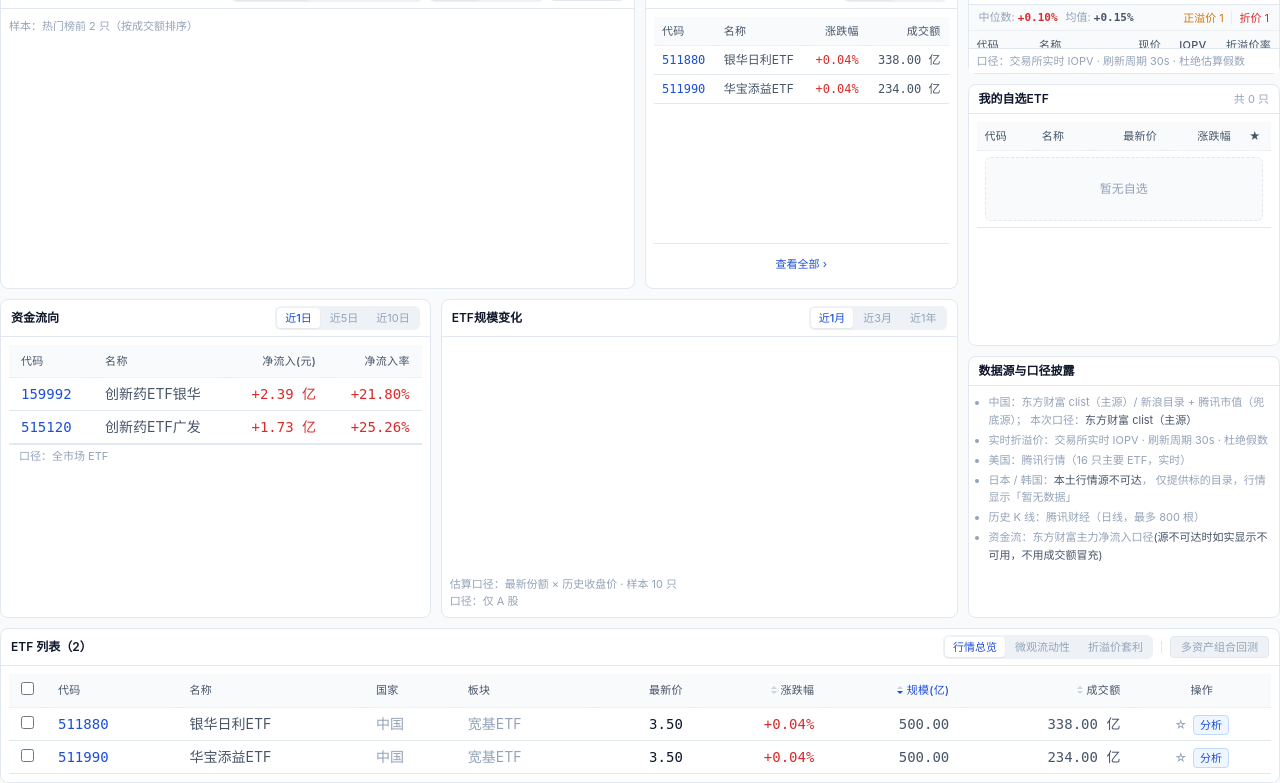
Test case: ETF列表三重视图与多资产勾选 › 勾选标的后支持触发多资产配置回测按钮
(page scrolled)
Expected: the text "创新药ETF银华" is shown, left=93, top=378, right=228, bottom=411
 勾选第一只标的
Click the checkbox named "选择 511880" at {"x": 28, "y": 722}, box left=21, top=716, right=34, bottom=729
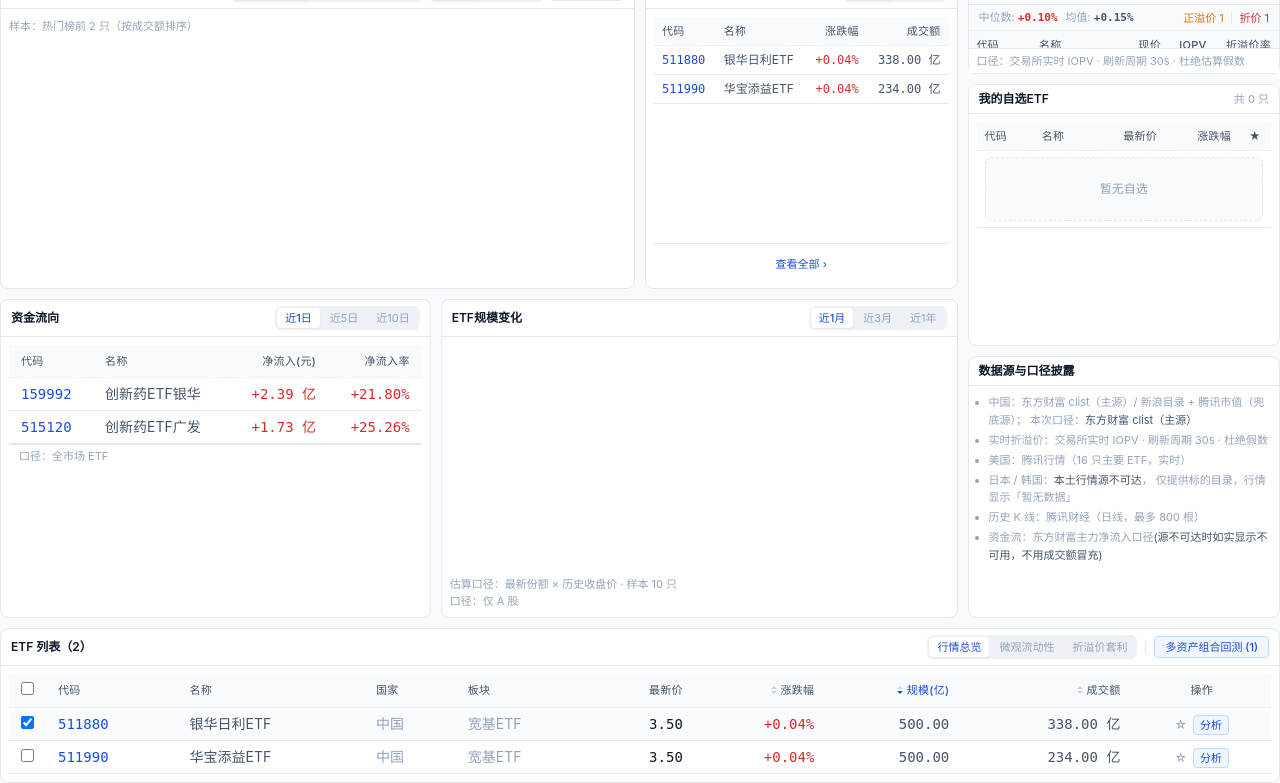
Expected: the button "多资产组合回测 (1)" is shown, left=1154, top=636, right=1269, bottom=658
 勾选第二只标的
Click the checkbox named "选择 511990" at {"x": 28, "y": 755}, box left=21, top=749, right=34, bottom=762
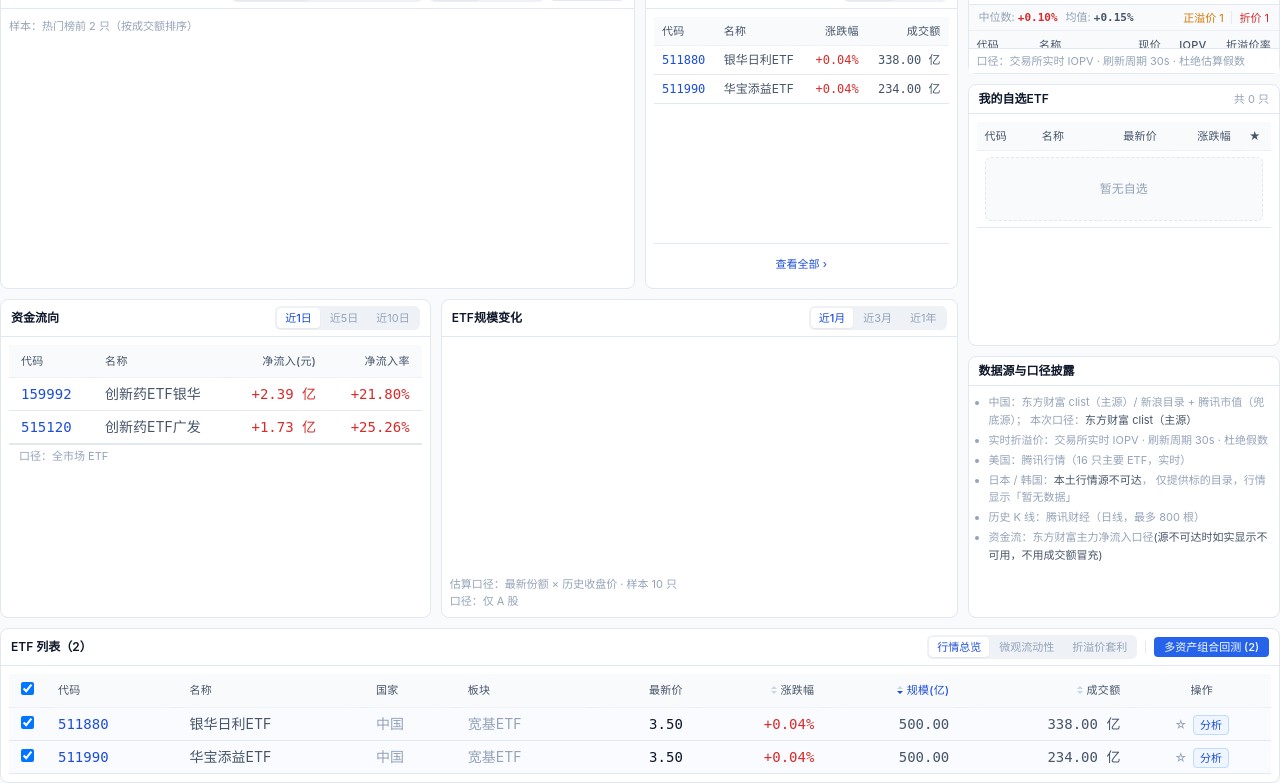
Expected: the button "多资产组合回测 (2)" is shown
点击打开回测弹窗
Click the button "多资产组合回测 (2)" at {"x": 1212, "y": 647}, box left=1154, top=637, right=1269, bottom=657
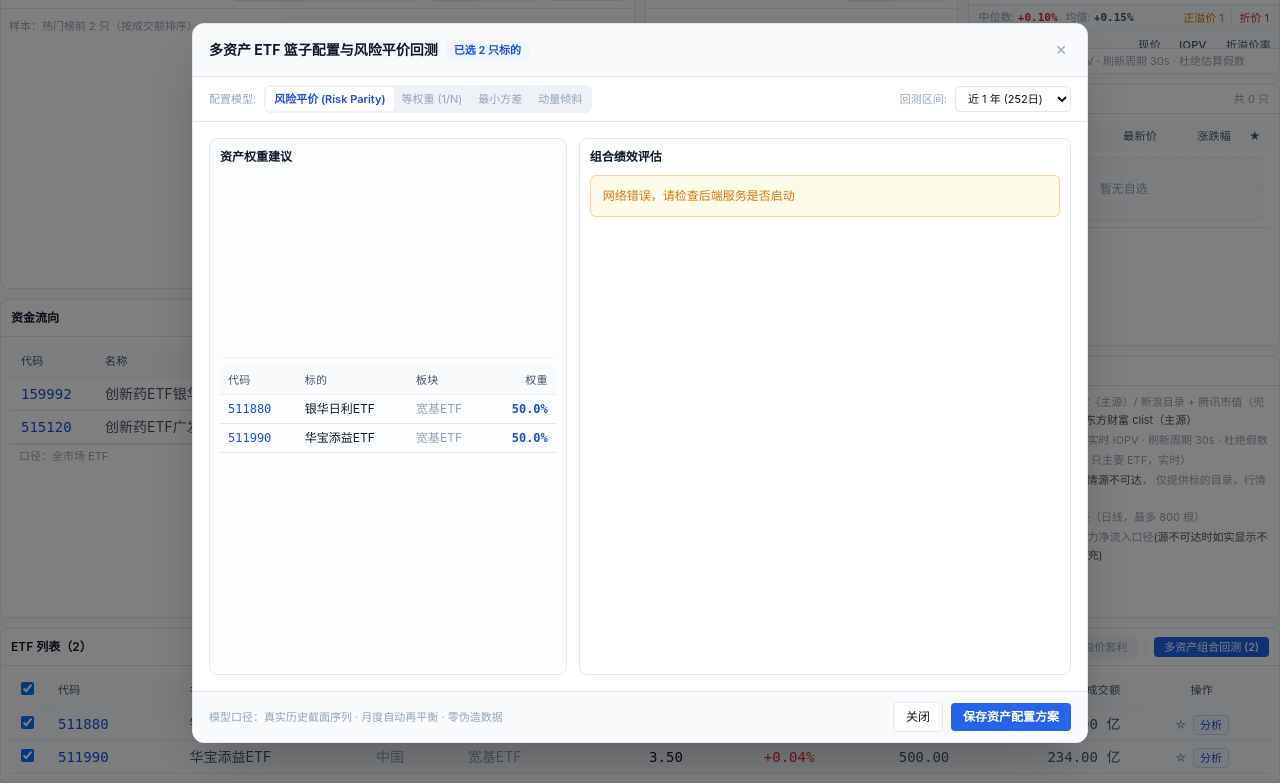
Expected: the heading "多资产 ETF 篮子配置与风险平价回测" is shown, left=209, top=40, right=438, bottom=60
